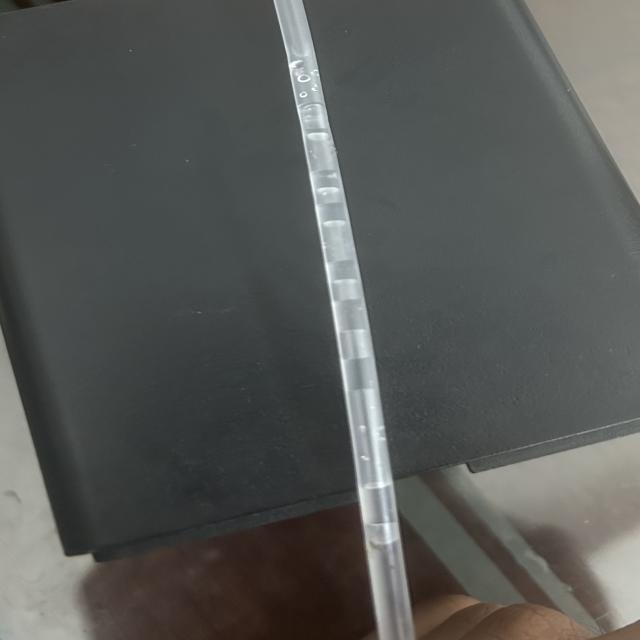bubble: (344, 385, 409, 490), (314, 220, 379, 266), (323, 326, 376, 360), (359, 518, 404, 548), (319, 280, 371, 301), (313, 184, 351, 207), (296, 99, 326, 115), (306, 133, 338, 144), (289, 57, 308, 71), (296, 72, 312, 86), (314, 66, 326, 79), (293, 89, 310, 98), (362, 452, 372, 462)
